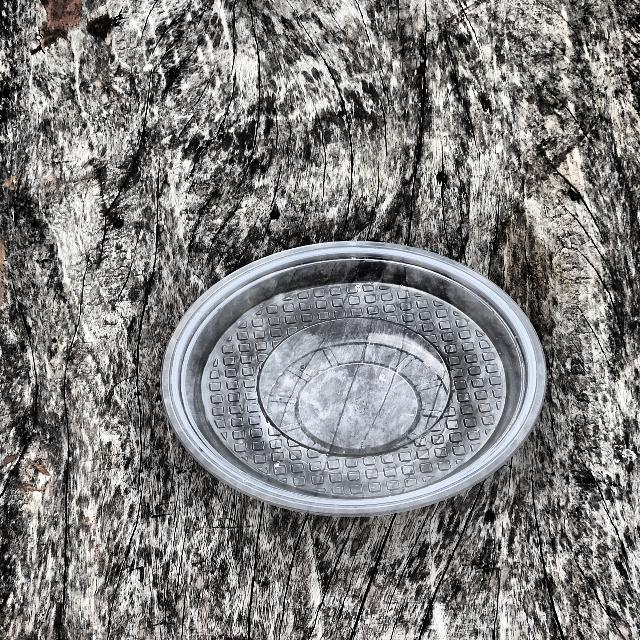plastic container: (120, 211, 570, 543)
